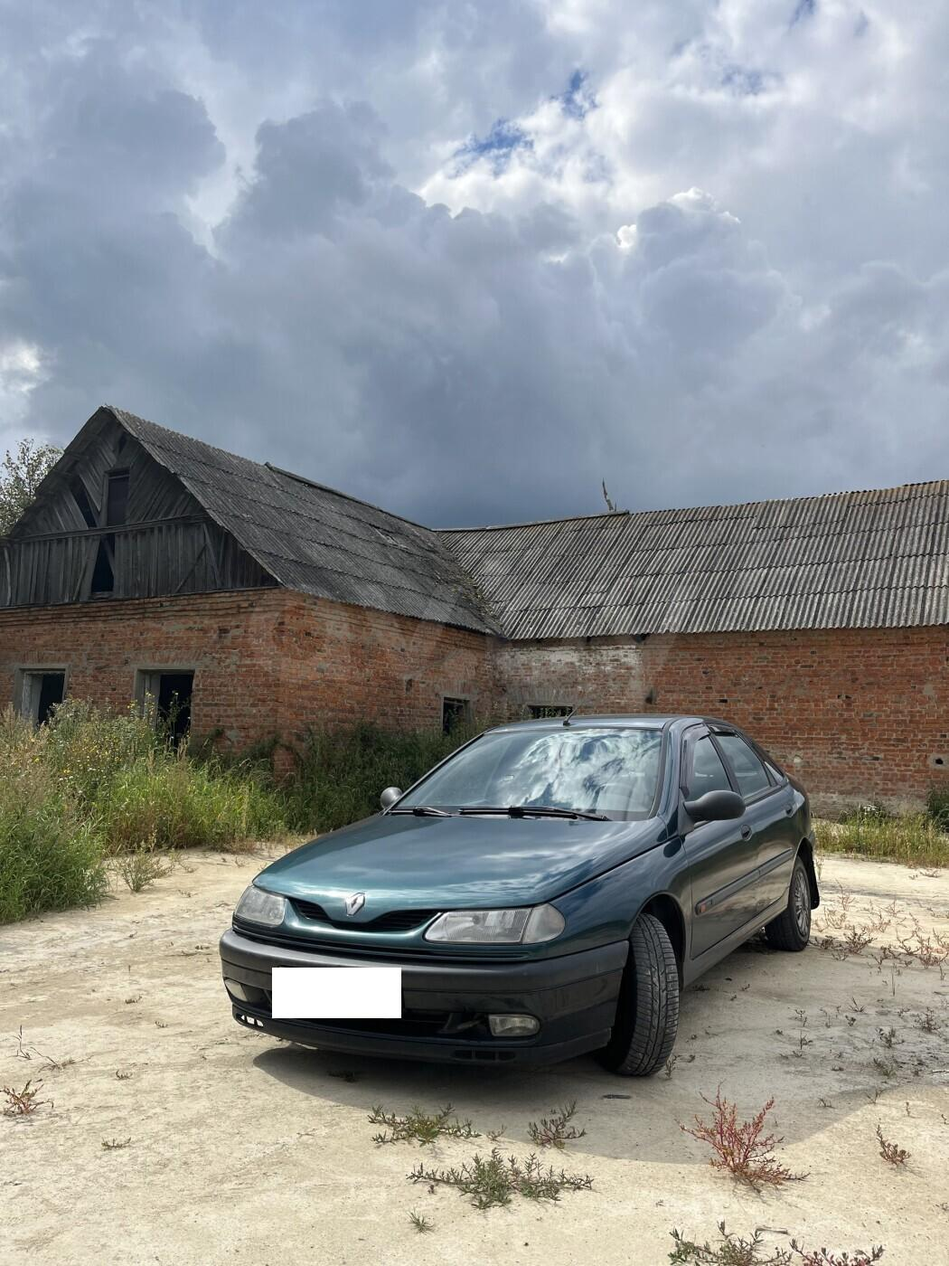Lahuna_1993-1999: (217, 704, 824, 1094)
